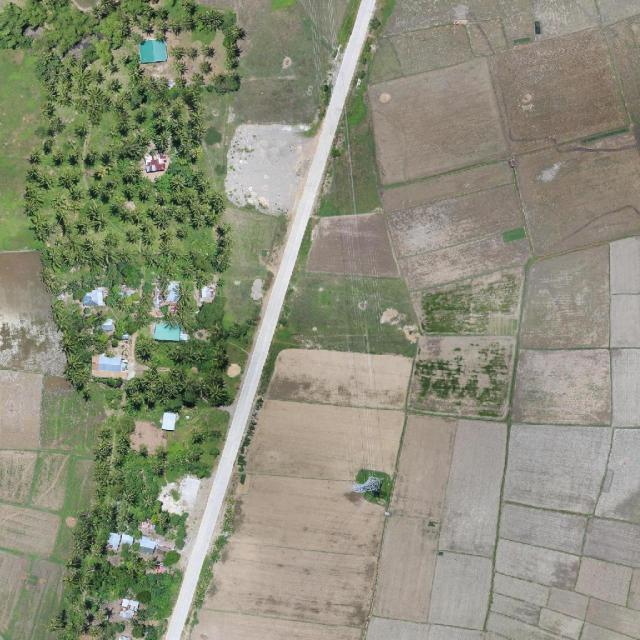agricultural_land: (0, 50, 104, 639)
building: (91, 354, 129, 378), (138, 38, 168, 64), (154, 322, 181, 341), (136, 535, 159, 555), (120, 598, 140, 621), (82, 287, 104, 306), (105, 531, 122, 552), (164, 282, 180, 304), (120, 534, 135, 546)
dryland: (156, 470, 202, 519)
